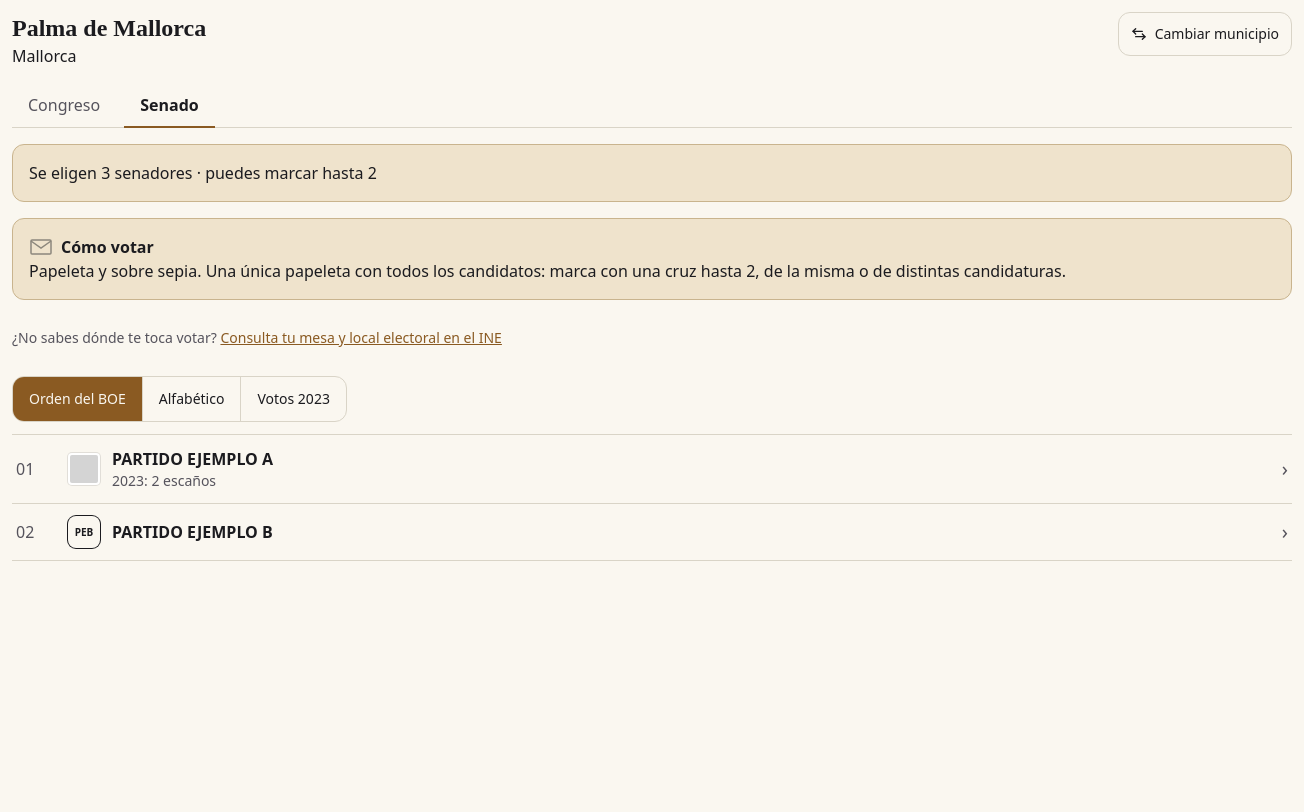
Test: ConstituencyView › closes the search with Escape and returns focus to the button
Click the button "Cambiar municipio" at (1205, 34), box [1118,12,1292,56]
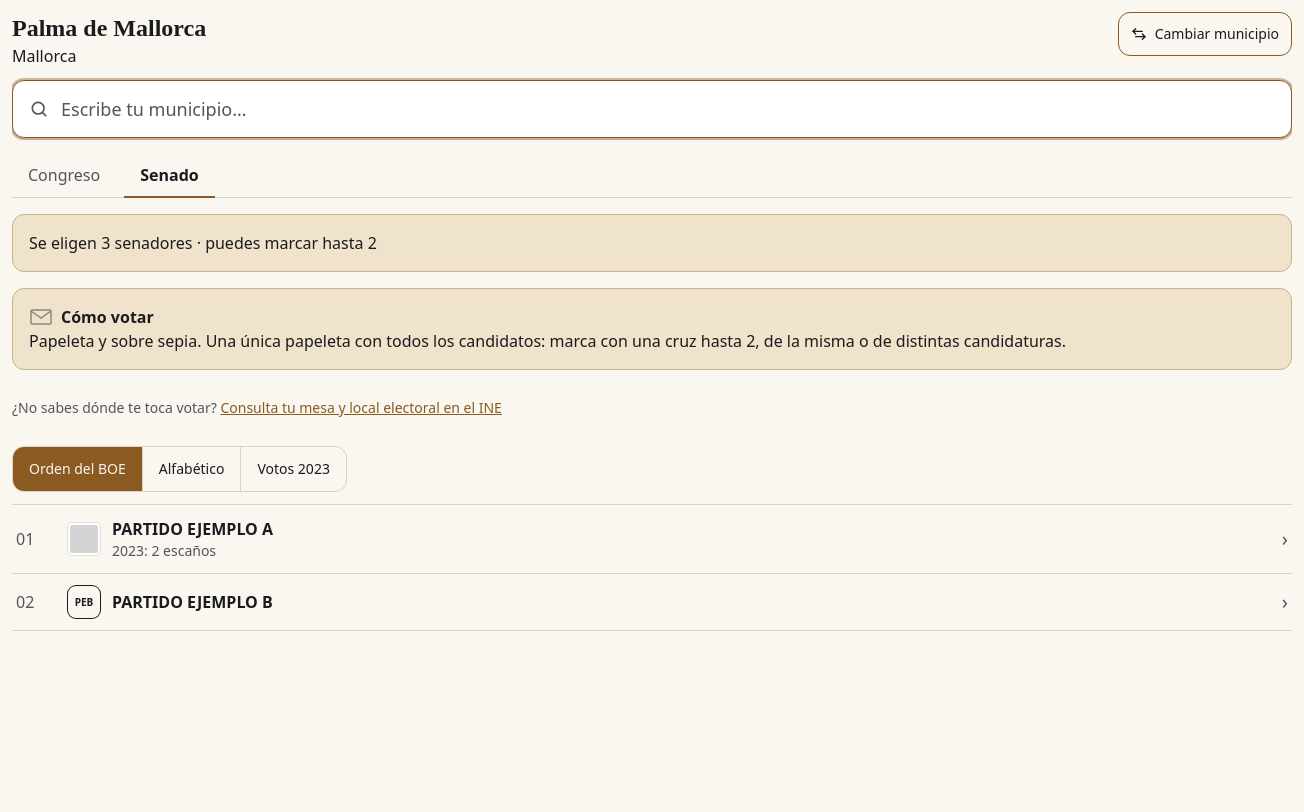
Press Escape
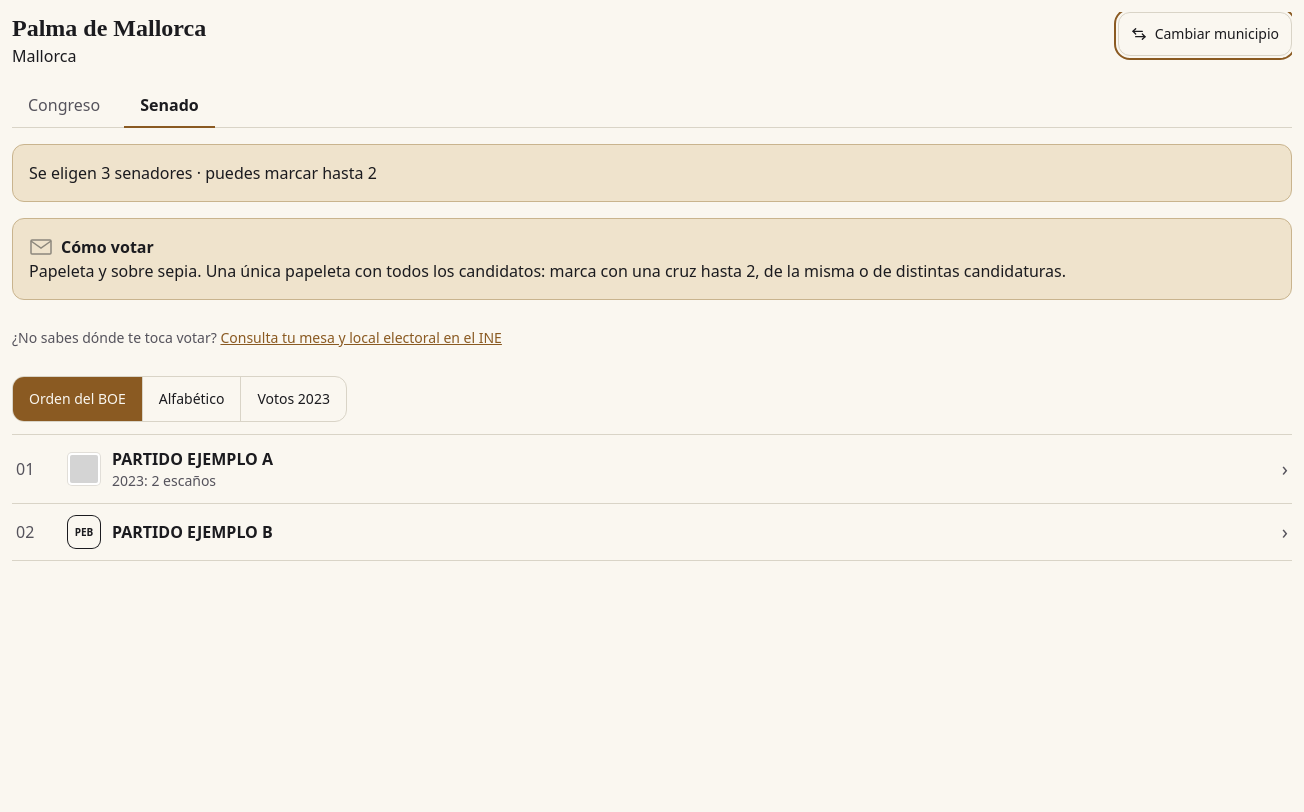
Expected: the dropdown is gone
